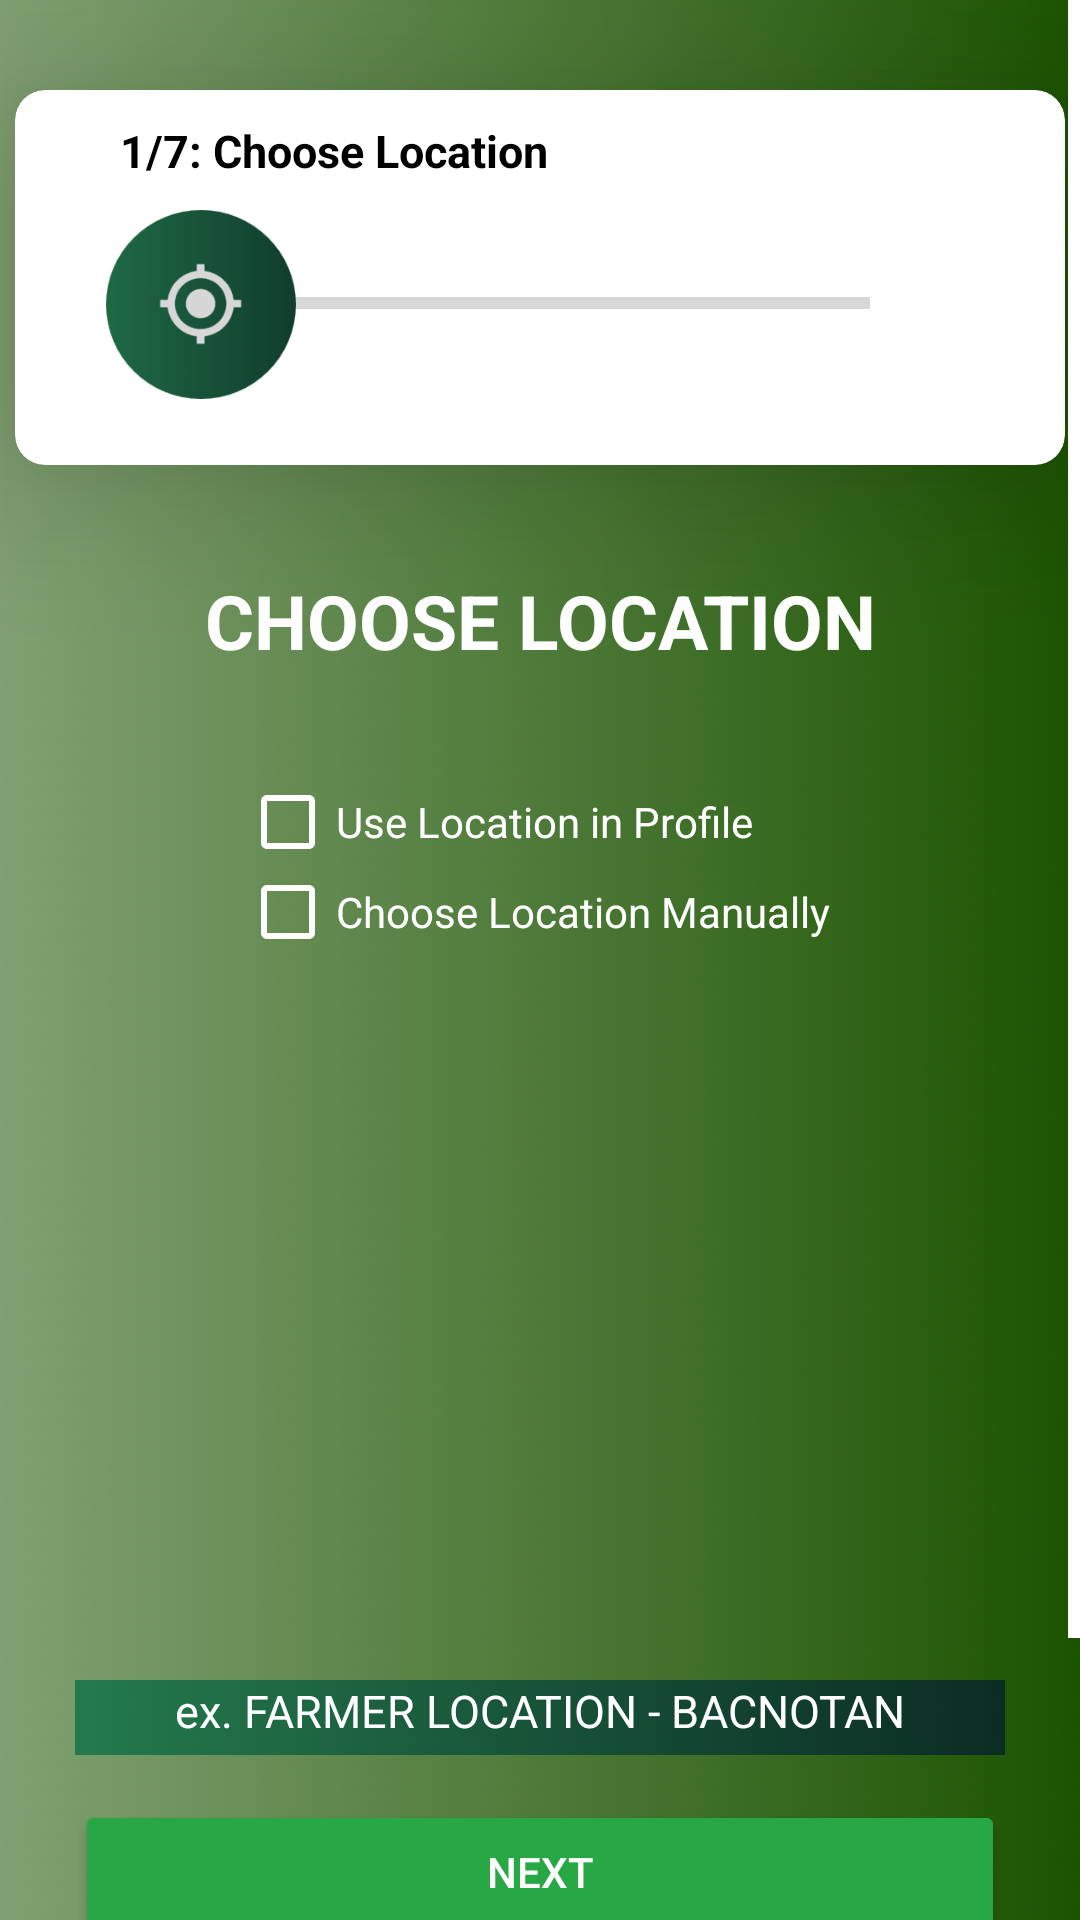

Named icons in this screenshot (1080 × 1920) and their centers, (x=x, y=y):
selectlocation: (x=216, y=304)
